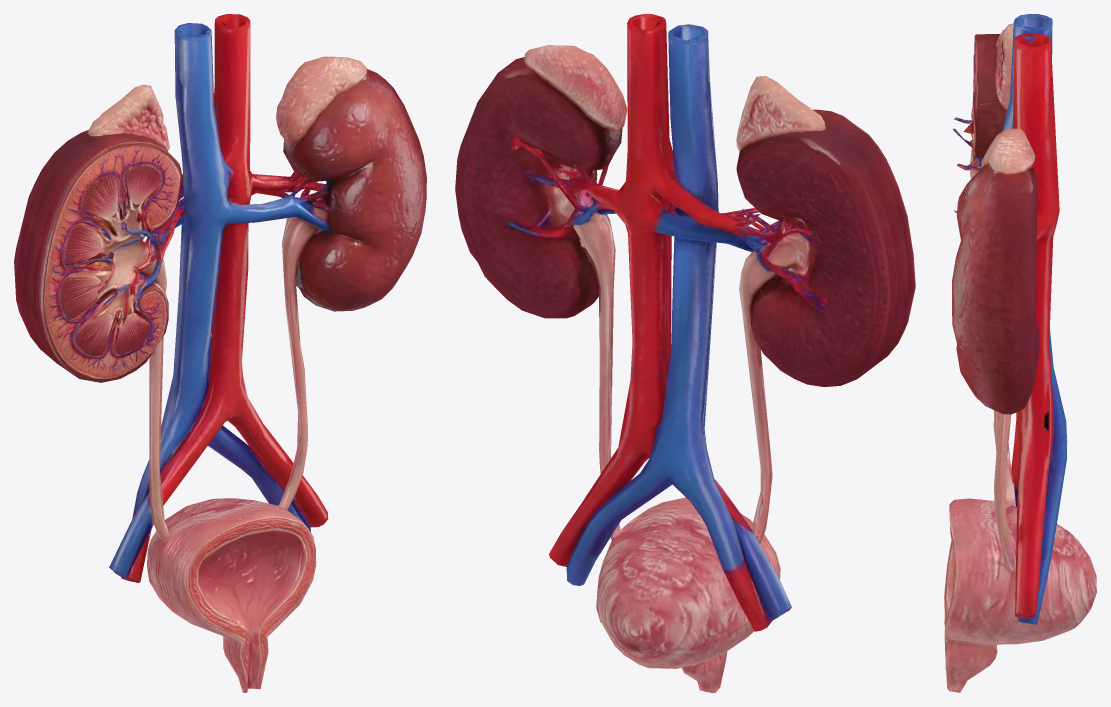
File: kidneys.glb
3 renders of one model, left to right at view 1: azimuth 30°, elevation 25°; view 2: azimuth 150°, elevation 25°; view 3: azimuth 270°, elevation 25°, orthographic. The views are drawn at different scales.
Parts seen in each view (by area): view 1: Mesh1.0; view 2: Mesh1.0; view 3: Mesh1.0.
Part boxes in pixels (x1,y1,x2,y2): Mesh1.0: (14, 14, 426, 692); Mesh1.0: (455, 14, 915, 692); Mesh1.0: (944, 14, 1096, 692).
Bounding box in the file's own units: 1.25 × 1.91 × 0.4009.
1 material, 1 textured.
